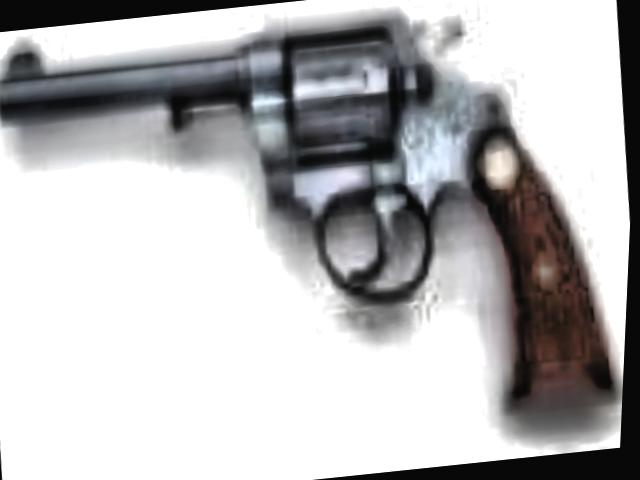pistol: (0, 0, 639, 467)
